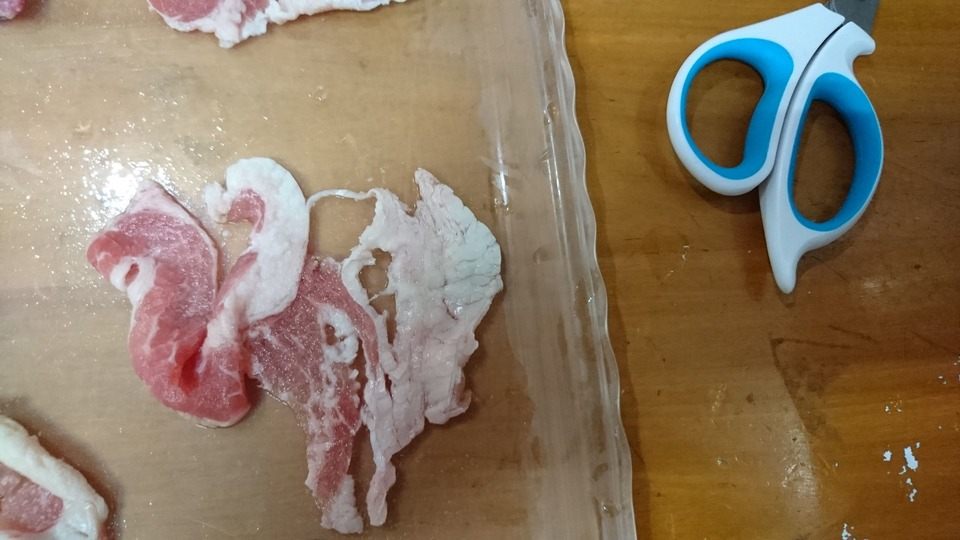restructured meat: (91, 157, 507, 537)
